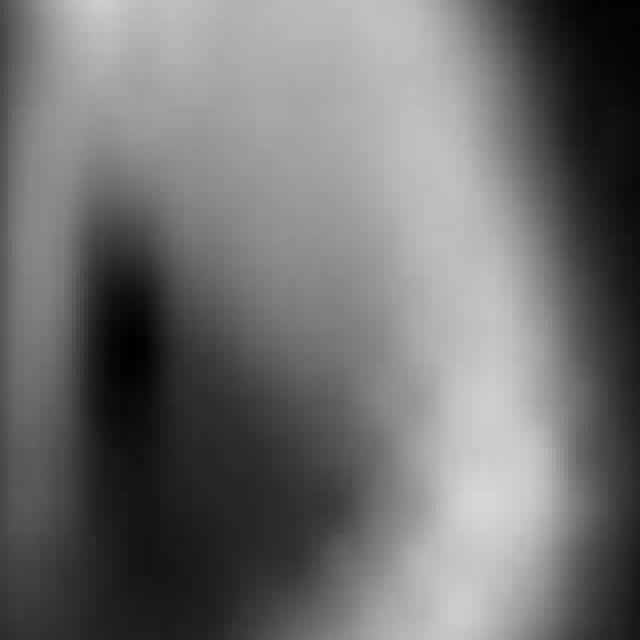person: (1, 1, 605, 640)
